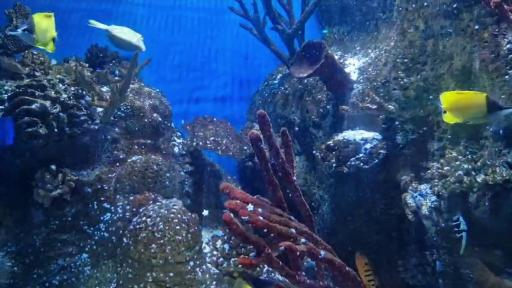Fish: (439, 90, 512, 124), (6, 12, 57, 53), (88, 20, 145, 52), (355, 252, 378, 288)
